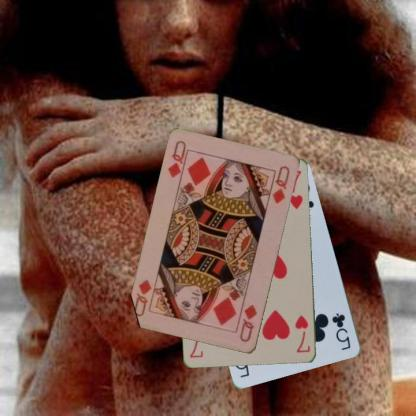5c: (329, 310, 352, 352)
7h: (293, 313, 311, 354)
Qd: (165, 138, 190, 184), (237, 301, 259, 344)
